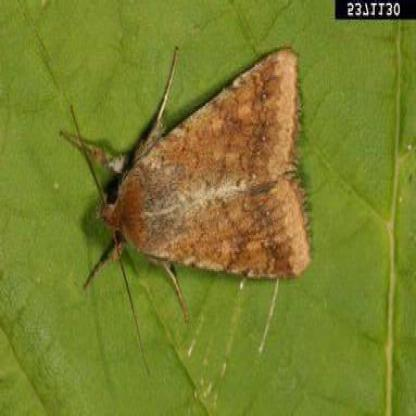helicoverpa: (61, 46, 312, 317)
